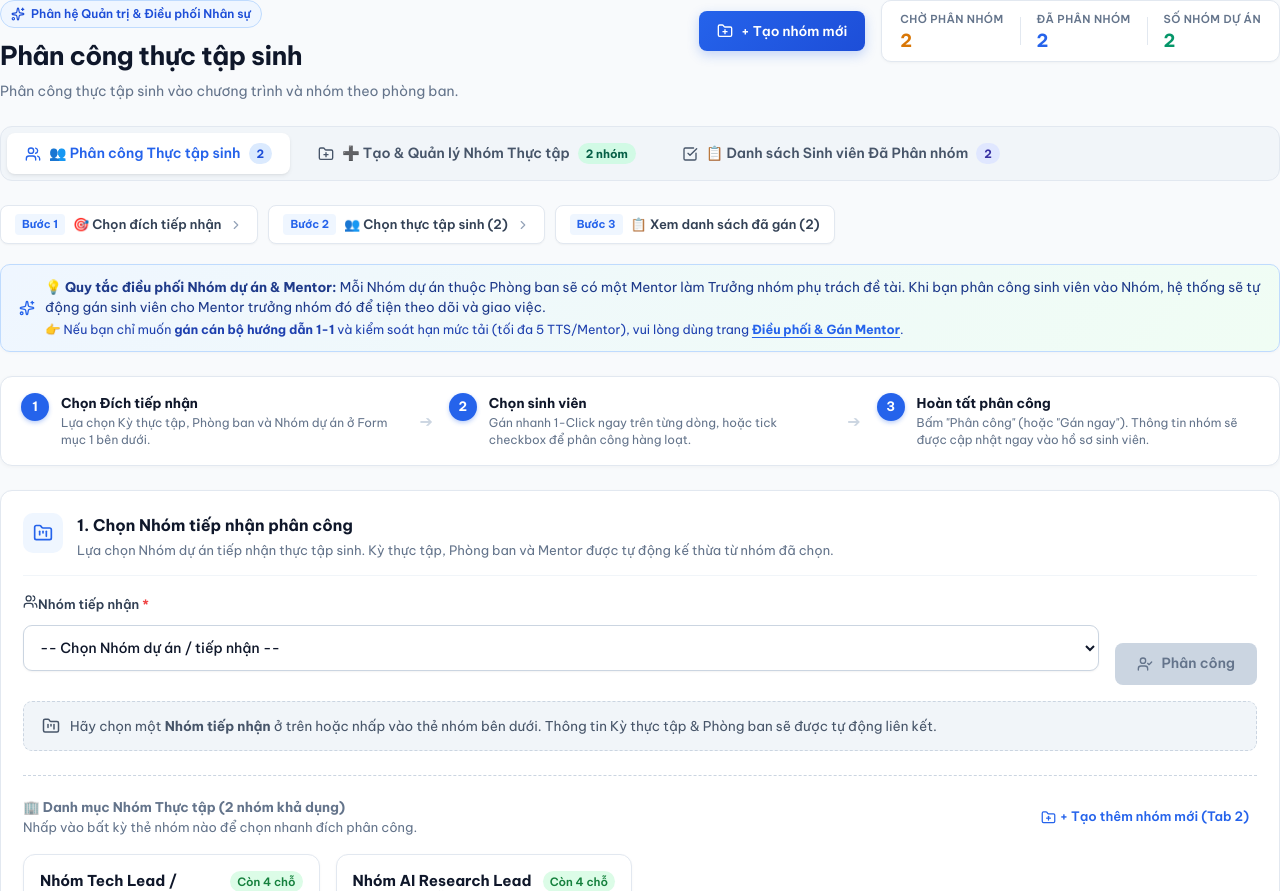
Test case: InternGroupAssignmentPage API Integration Test Suite › 2. Chọn Nhóm tiếp nhận tự động liên kết Kỳ thực tập, Phòng ban và Mentor
Step 1. Select "Nhóm Tech Lead / Chuyên viên Frontend (Trần Hoàng Quân) — Trung tâm Phát triển P" in the dropdown named "Chọn Nhóm tiếp nhận" → (561, 648), box [23,625,1099,671]
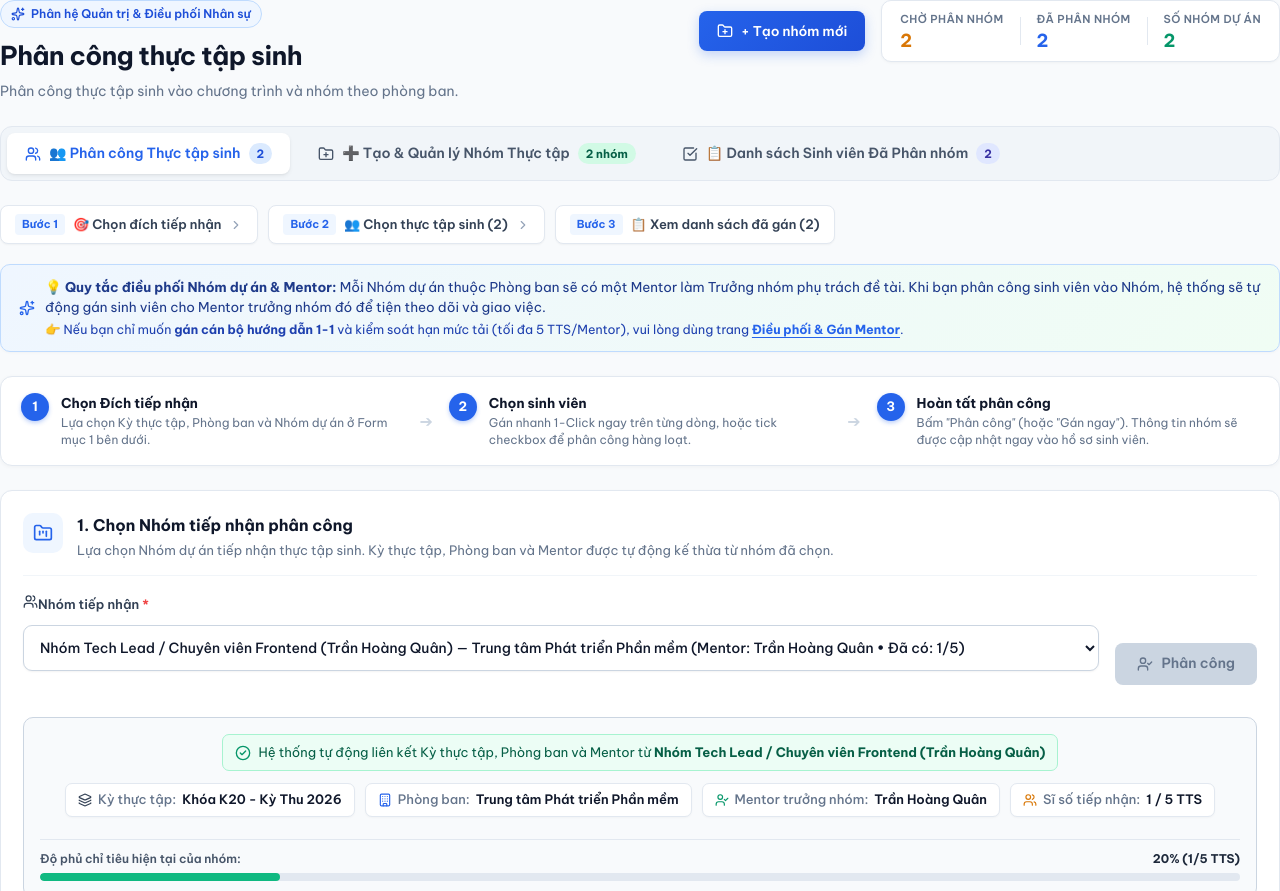
Expected: the text "Hệ thống tự động liên kết Kỳ thực tập" is shown, [258,744,654,760]
Expected: the text "Mentor trưởng nhóm:" is shown, [735,791,868,807]
